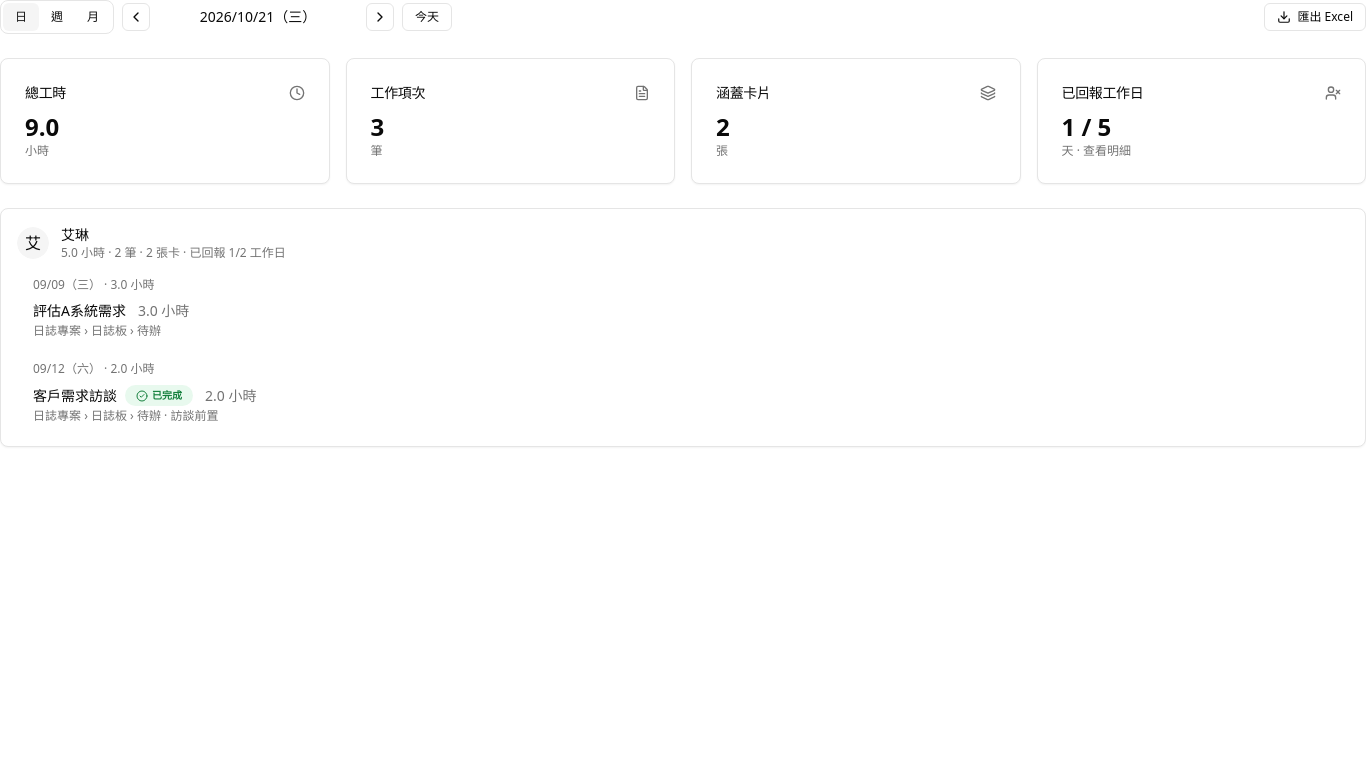
Scenario: WorkLogReport › me 範圍對話框標題為我的漏報明細，且不顯示另有 K 人無漏報
The image size is (1366, 768).
Expected: the text "評估A系統需求" is shown, [33,301,126,321]
Click the button with test id "worklog-kpi-missing-button".
click(1201, 121)  # box [1036,58,1365,184]
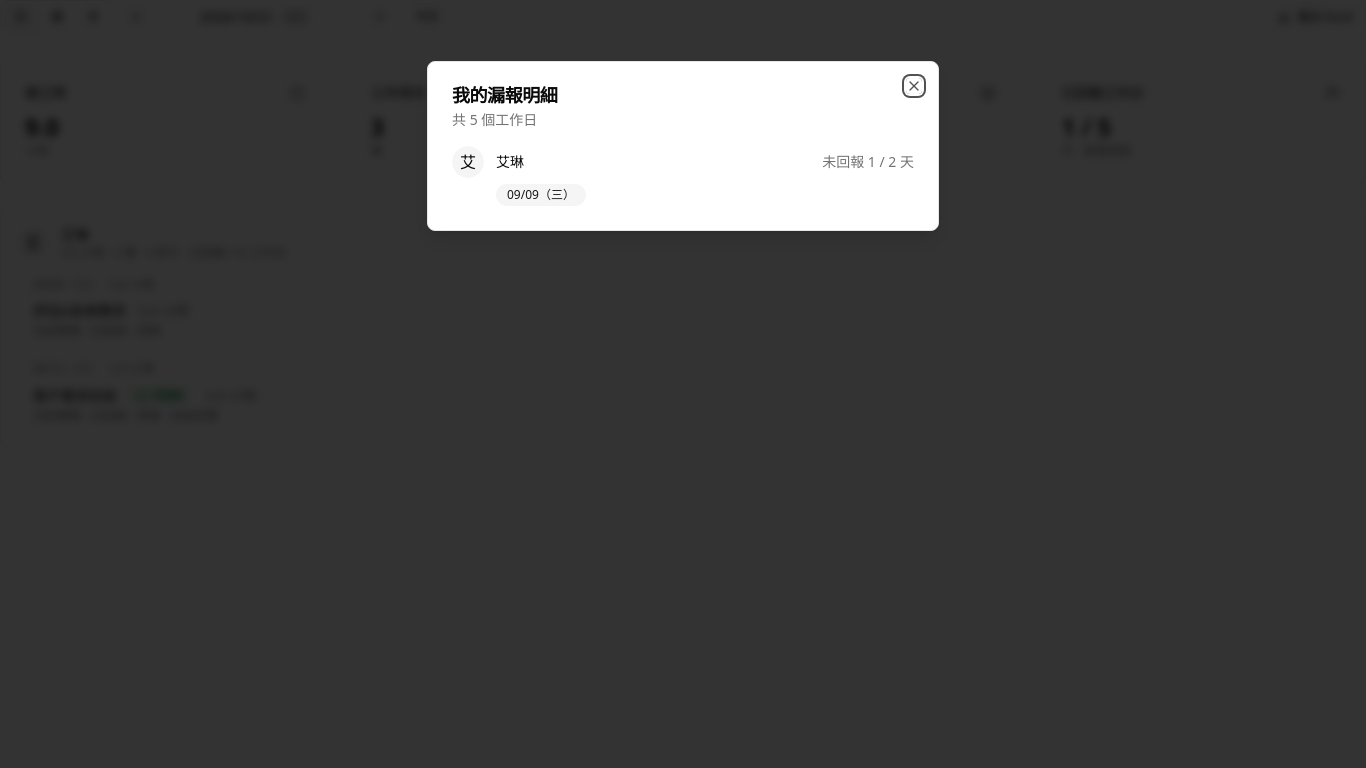
Now the heading "我的漏報明細" is shown, box [452,83,557,107]
Now the element with test id "worklog-missing-member" is shown, box [452,146,914,206]
